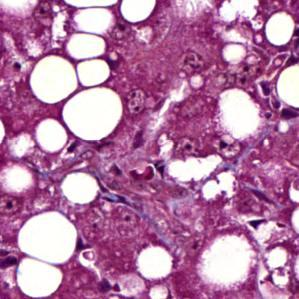steatosis: (15, 207, 82, 264), (60, 91, 126, 143), (26, 53, 75, 106), (213, 87, 262, 139), (131, 245, 175, 278)
